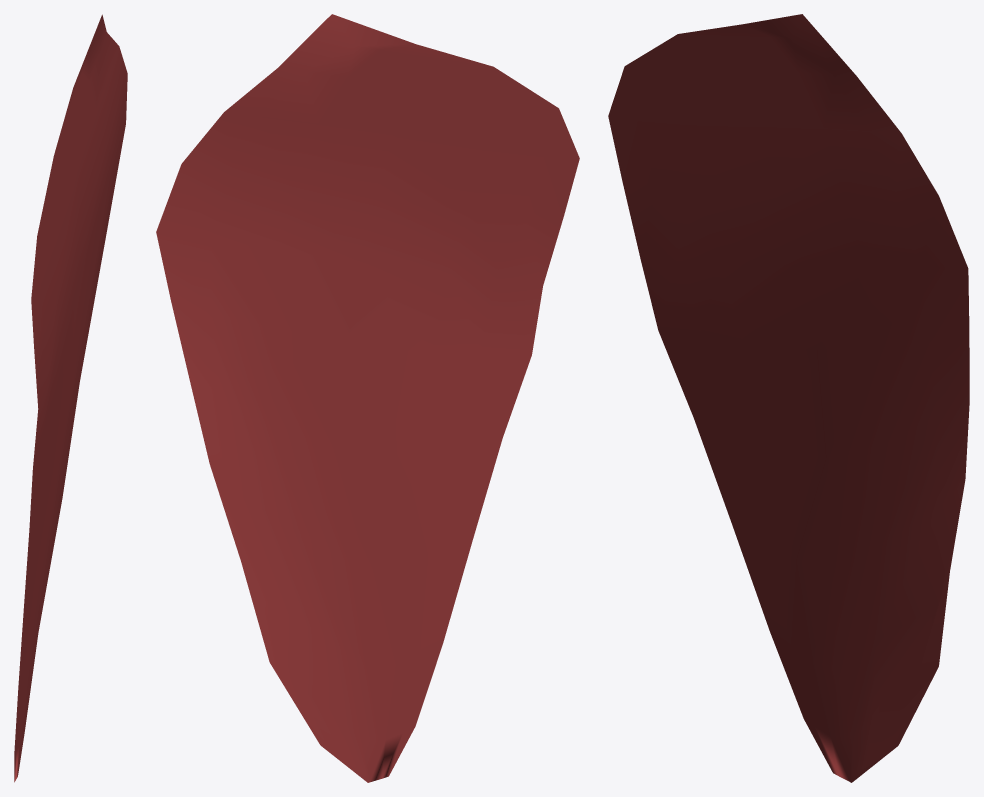
The model's file is subtendinous-bursa-of-sartorius-muscle-r.glb.
The picture shows the model from 3 angles, left to right: view 1: azimuth 30°, elevation 25°; view 2: azimuth 150°, elevation 25°; view 3: azimuth 270°, elevation 25°; orthographic projection. The views are drawn at different scales.
Parts seen in each view (by area): view 1: Subtendinous bursa of sartorius muscle.r; view 2: Subtendinous bursa of sartorius muscle.r; view 3: Subtendinous bursa of sartorius muscle.r.
Part boxes in pixels (bbox=[...]): Subtendinous bursa of sartorius muscle.r: bbox=[14, 14, 127, 782]; Subtendinous bursa of sartorius muscle.r: bbox=[156, 14, 579, 782]; Subtendinous bursa of sartorius muscle.r: bbox=[608, 14, 969, 782].
Size of the model in its own units: 0.0142 by 0.0387 by 0.0159.
